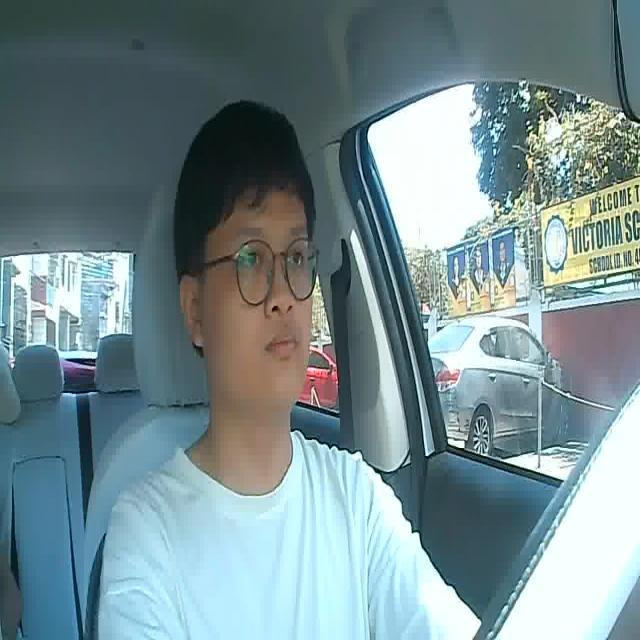Attentive: (170, 94, 317, 416)
Eye-Open: (237, 248, 269, 274), (282, 246, 306, 272)
Normal: (266, 330, 302, 365)
